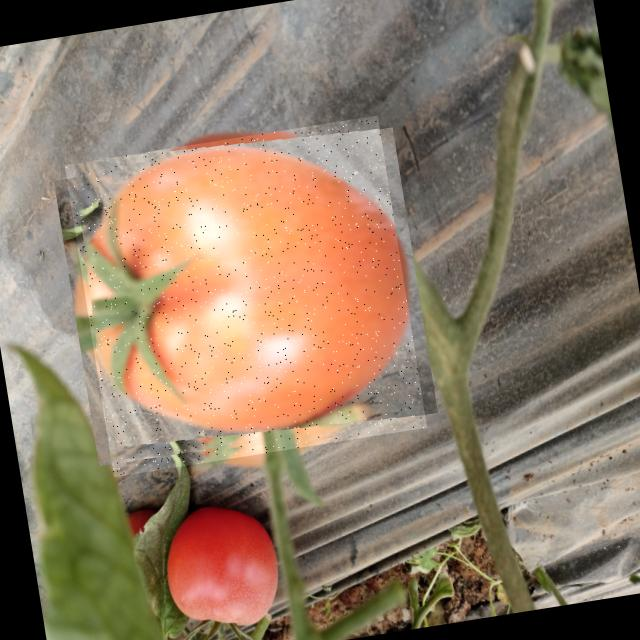Ripe Tomato: (65, 115, 428, 478)
